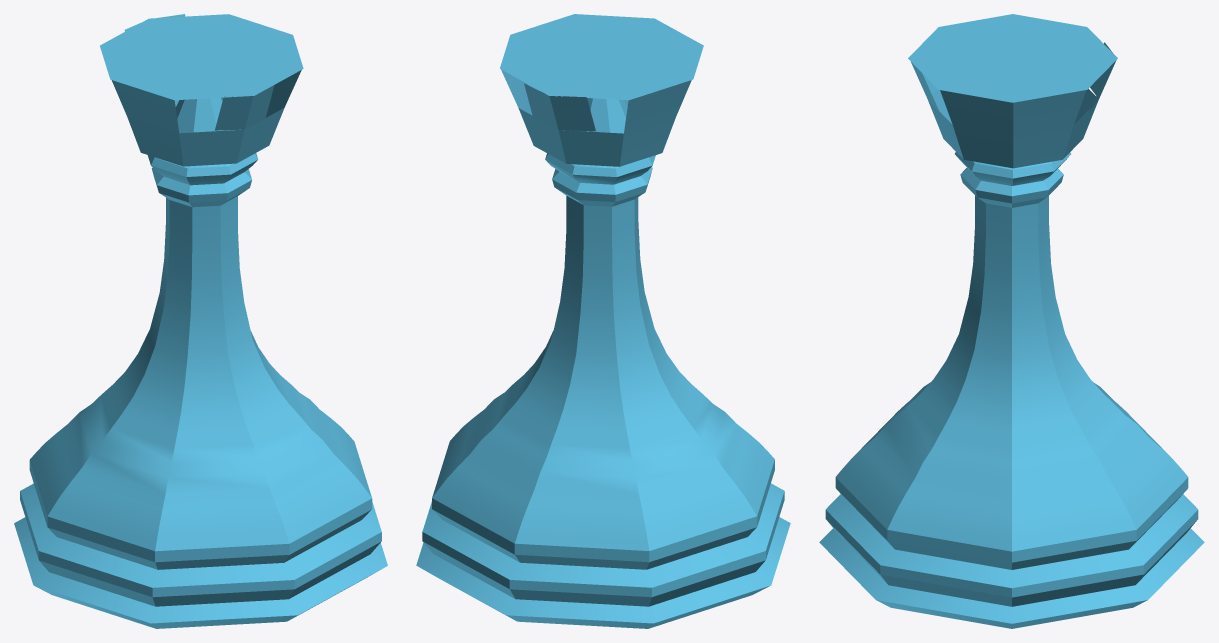
File: oyuncu.fbx
The picture shows the model from 3 angles, left to right: view 1: azimuth 30°, elevation 25°; view 2: azimuth 150°, elevation 25°; view 3: azimuth 270°, elevation 25°; orthographic projection.
Parts seen in each view (by area): view 1: Circle; view 2: Circle; view 3: Circle.
Part boxes in pixels (<box>): Circle: <box>14,14,387,628</box>; Circle: <box>416,14,790,628</box>; Circle: <box>819,14,1204,628</box>.
Size of the model in its own units: 225 by 322 by 225.
